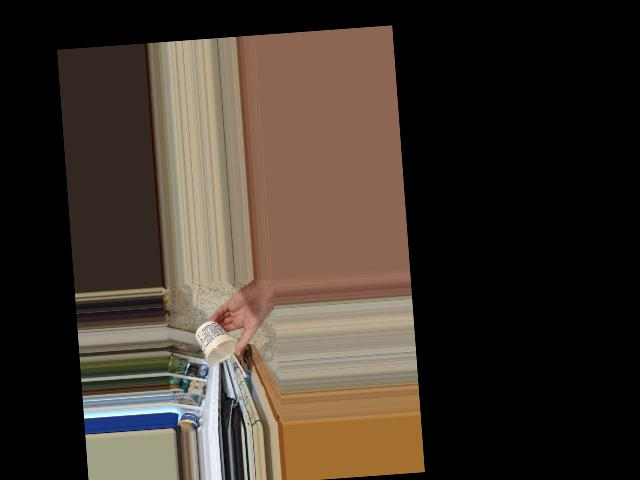cotage: (196, 322, 241, 366)
